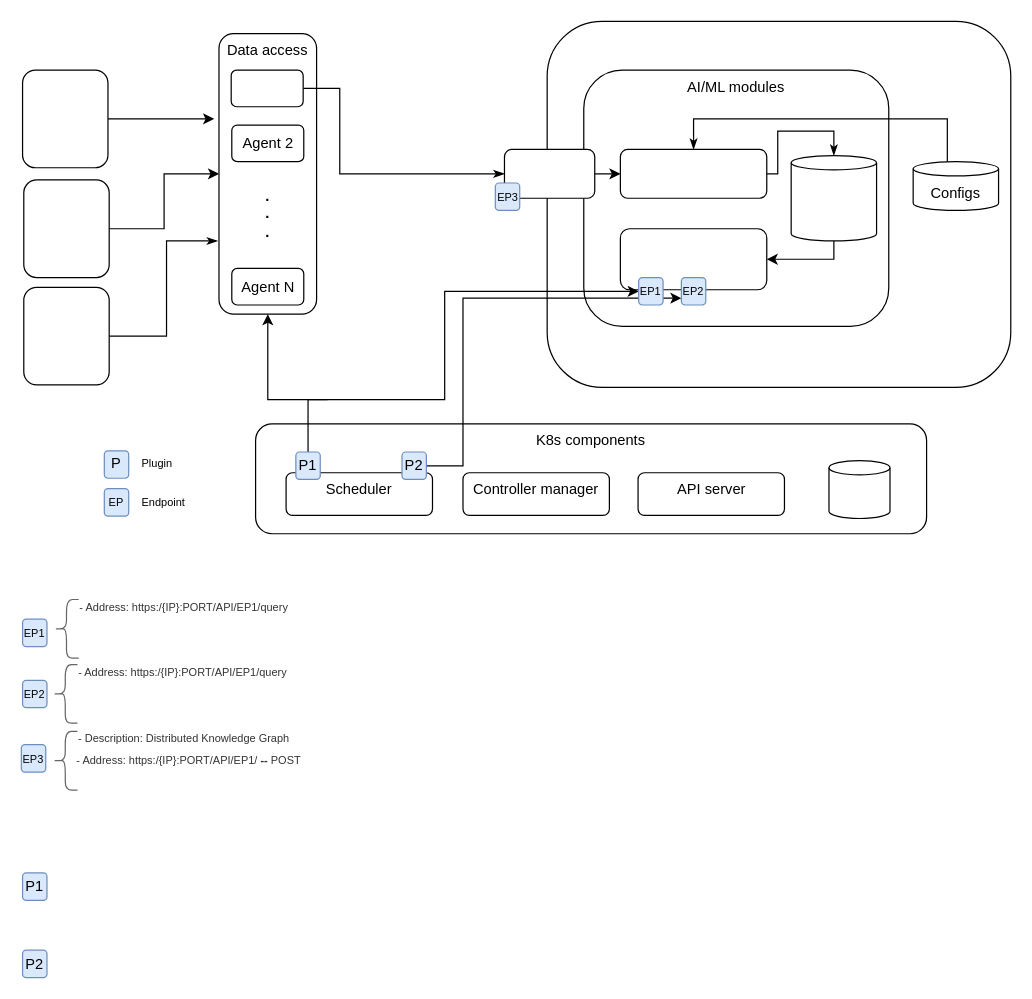
The diagram is 1032 pixels wide and 999 high, and some of its shapes have lost their labels. The shapes that lost their labels are listed below. From the top down, each one's box as (x1, y1, x2, y2) in pixels, then its label:
(230, 69, 303, 107): Agent 1
(21, 69, 108, 168): Kafka
(503, 148, 595, 198): DKG
(619, 148, 767, 198): Training
(546, 20, 1011, 387): Cognitive framework
(790, 154, 877, 241): Trained model weights
(23, 179, 109, 278): Synthetic Data Generator
(619, 228, 767, 290): Inference/prediction
(23, 286, 109, 385): Telemetry & monitoring
(828, 459, 890, 518): etcd
